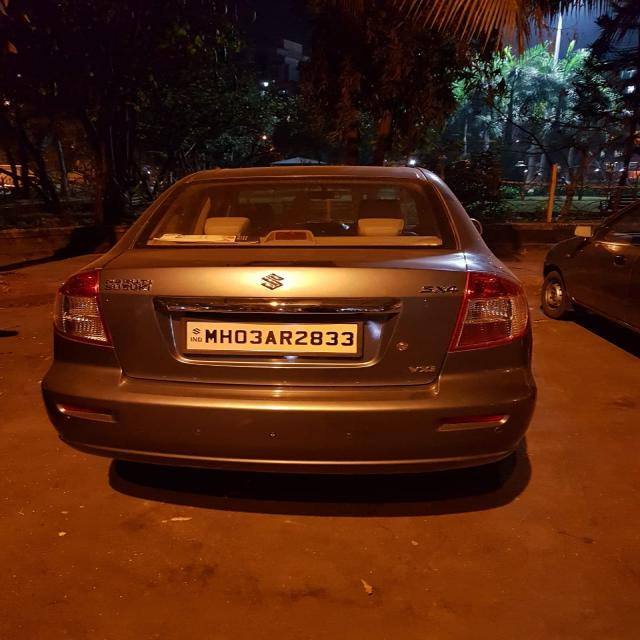Number-Plate: (190, 318, 360, 353)
